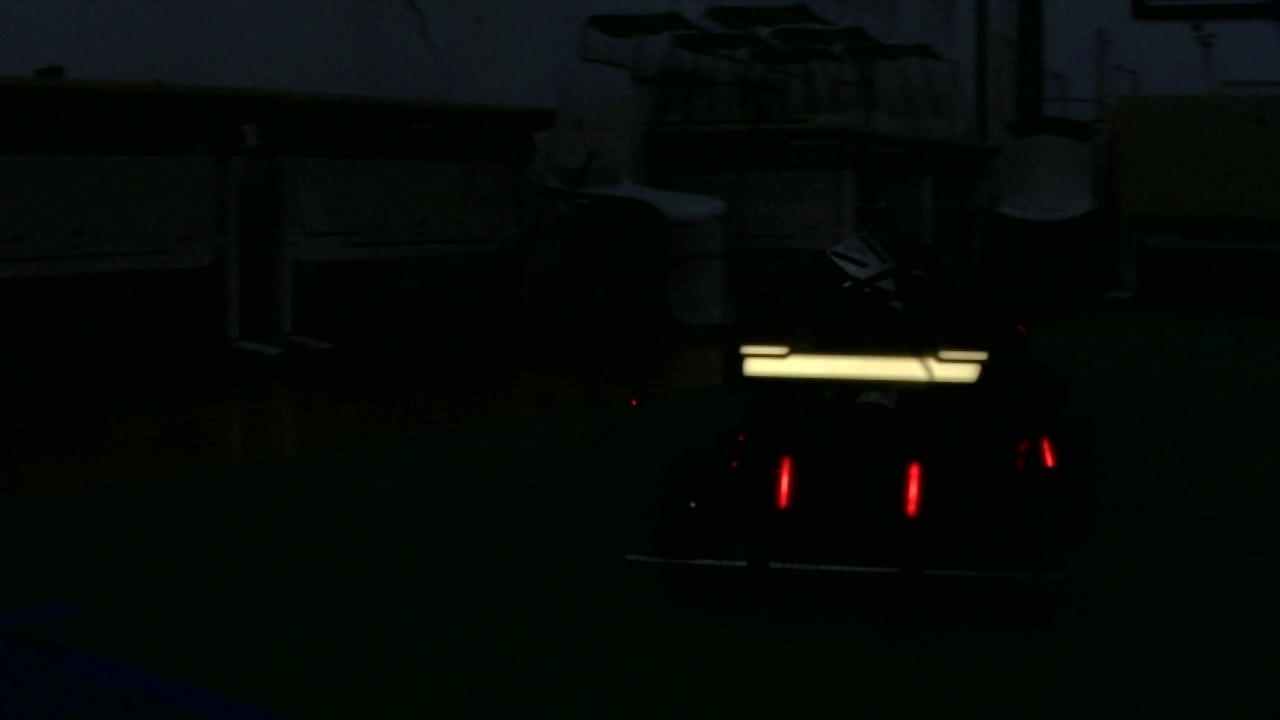lamp: (896, 453, 924, 526), (773, 453, 795, 515), (1035, 431, 1058, 465)
notpair1: (900, 431, 1059, 532)
pair1: (775, 452, 922, 526)
